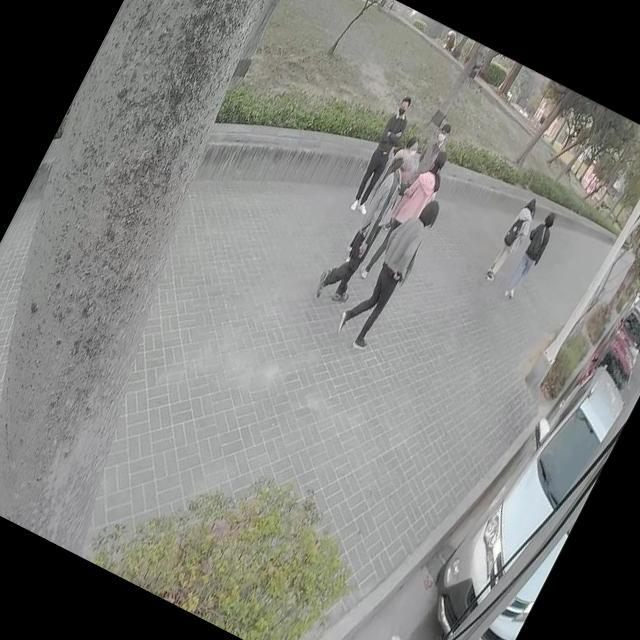person: (312, 125, 430, 309), (335, 188, 444, 350), (360, 146, 447, 284), (347, 94, 420, 214), (500, 210, 561, 304), (483, 195, 542, 284), (416, 118, 456, 176), (384, 131, 425, 186)
